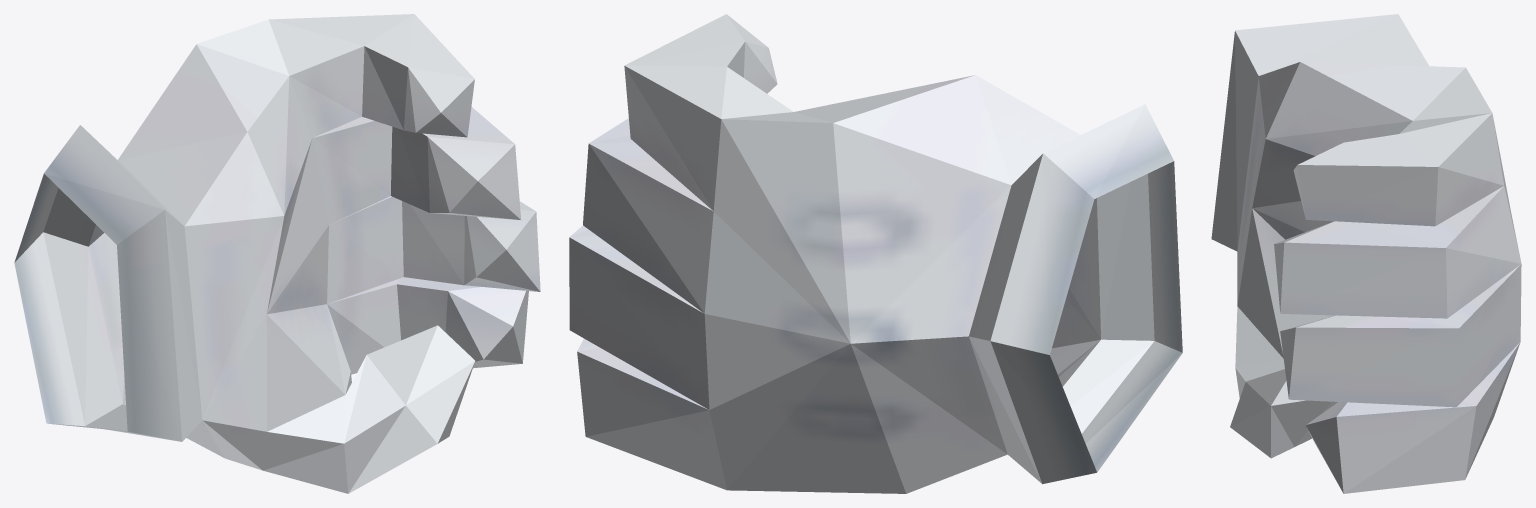
Rendered from ma_hnd2r.dae.
The picture shows the model from 3 angles, left to right: view 1: azimuth 30°, elevation 25°; view 2: azimuth 150°, elevation 25°; view 3: azimuth 270°, elevation 25°; orthographic projection. The views are drawn at different scales.
Visible parts, largest first — view 1: m0; view 2: m0; view 3: m0.
Boxes of the visible parts, box(x1,y1,x2,y2) form: m0: box(14, 14, 540, 493); m0: box(569, 14, 1182, 493); m0: box(1211, 14, 1521, 493).
Size of the model in its own units: 31.81 by 25.77 by 20.22.
